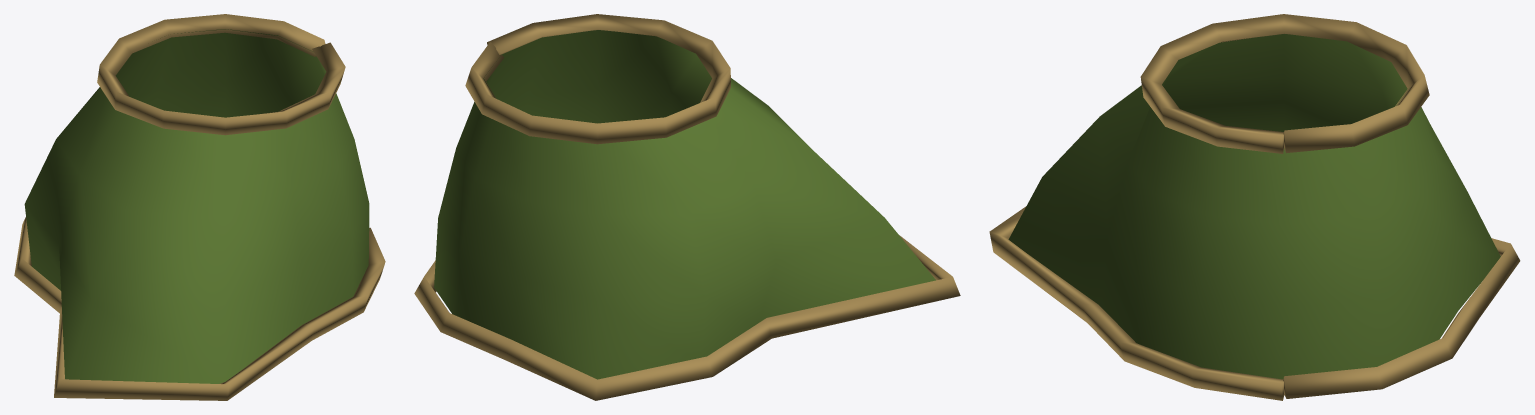
The model's file is turtle_armor_pauldron.R.glb.
3 views of the same model, side by side, from view 1: azimuth 30°, elevation 25°; view 2: azimuth 150°, elevation 25°; view 3: azimuth 270°, elevation 25° (orthographic). The views are drawn at different scales.
Parts seen in each view (by area): view 1: turtle_armor_pauldron.R; view 2: turtle_armor_pauldron.R; view 3: turtle_armor_pauldron.R.
Part boxes in pixels (x1,y1,x2,y2): turtle_armor_pauldron.R: (14, 14, 385, 400); turtle_armor_pauldron.R: (414, 14, 960, 400); turtle_armor_pauldron.R: (989, 14, 1520, 400).
Size of the model in its own units: 0.3204 by 0.1646 by 0.3194.
